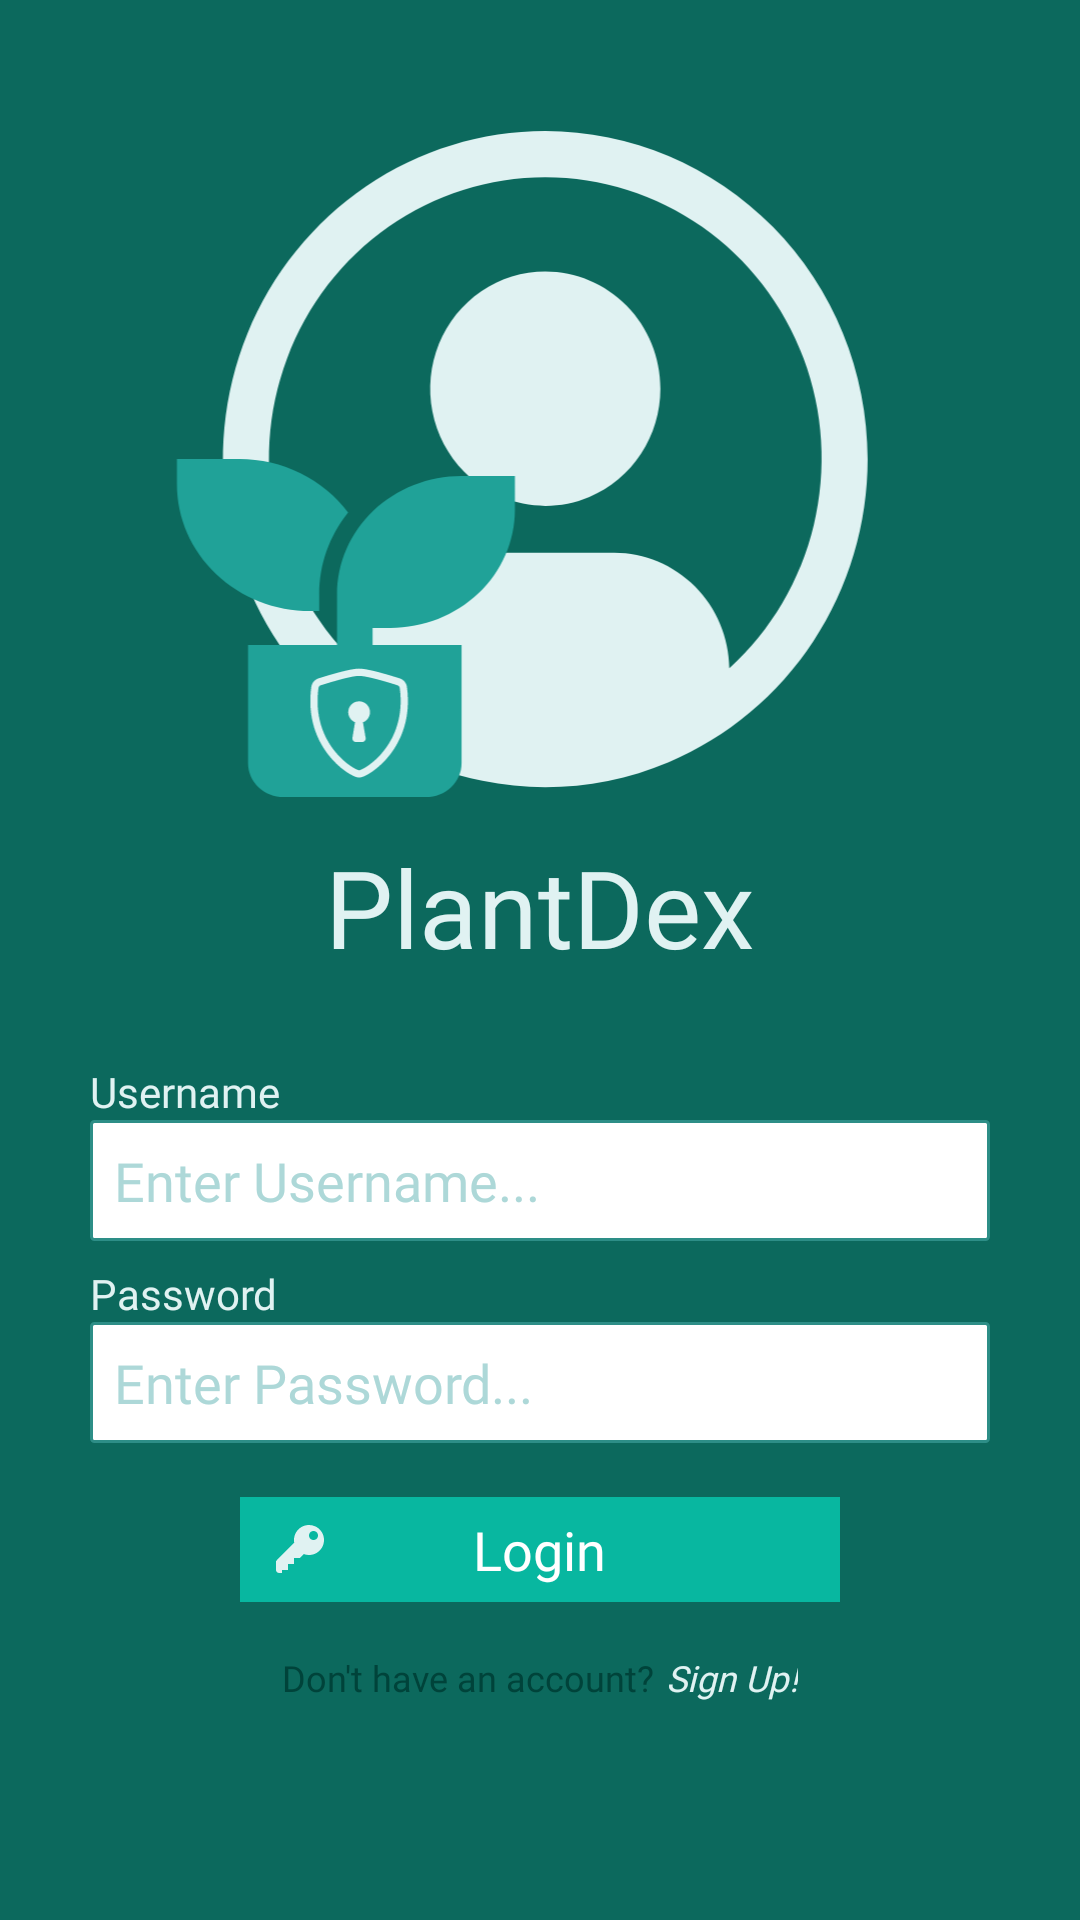

Where icons sit on this 1080x1920 app screen, as (x1, y1, x2, y2):
key: (276, 1525, 324, 1573)
